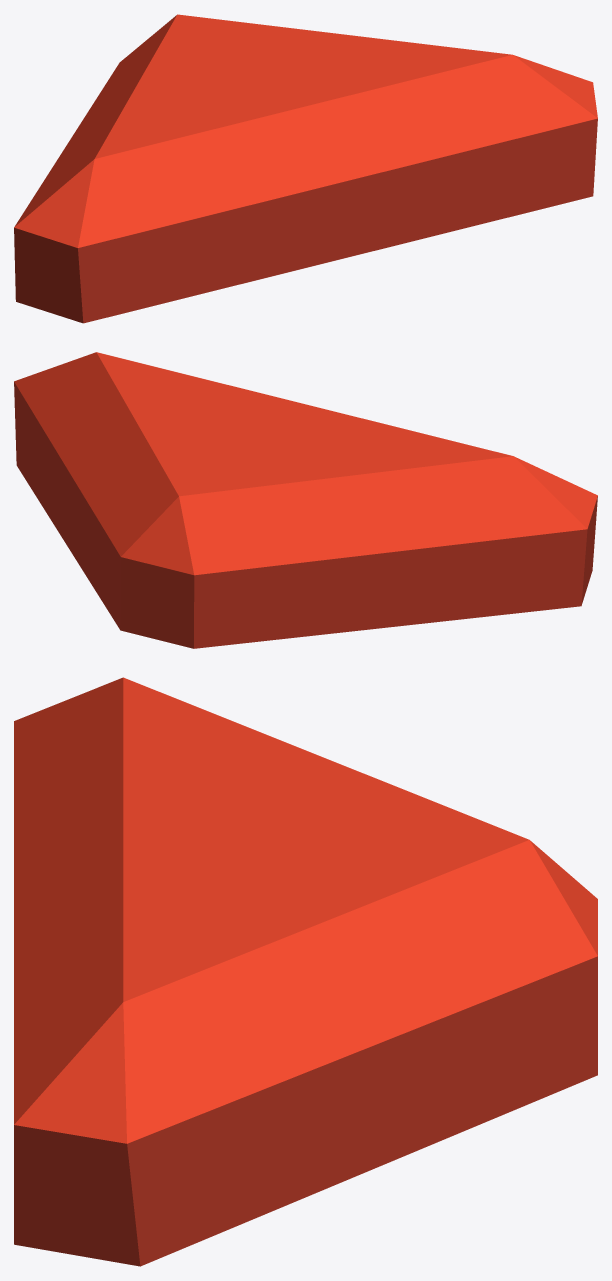
File: crafting_triangle_button_glb.glb
3 renders of one model, top to bottom at view 1: azimuth 30°, elevation 25°; view 2: azimuth 150°, elevation 25°; view 3: azimuth 270°, elevation 25°, orthographic. The views are drawn at different scales.
Visible parts, largest first — view 1: crafting_triangle_button; view 2: crafting_triangle_button; view 3: crafting_triangle_button.
Boxes of the visible parts, left/top/right/bottom form: crafting_triangle_button: left=14, top=14, right=597, bottom=323; crafting_triangle_button: left=14, top=352, right=597, bottom=648; crafting_triangle_button: left=14, top=677, right=597, bottom=1266.
Size of what is drawn, in the model's own units: 0.2611 by 0.0566 by 0.1423.
Materials: 1 (1 with a texture image).
